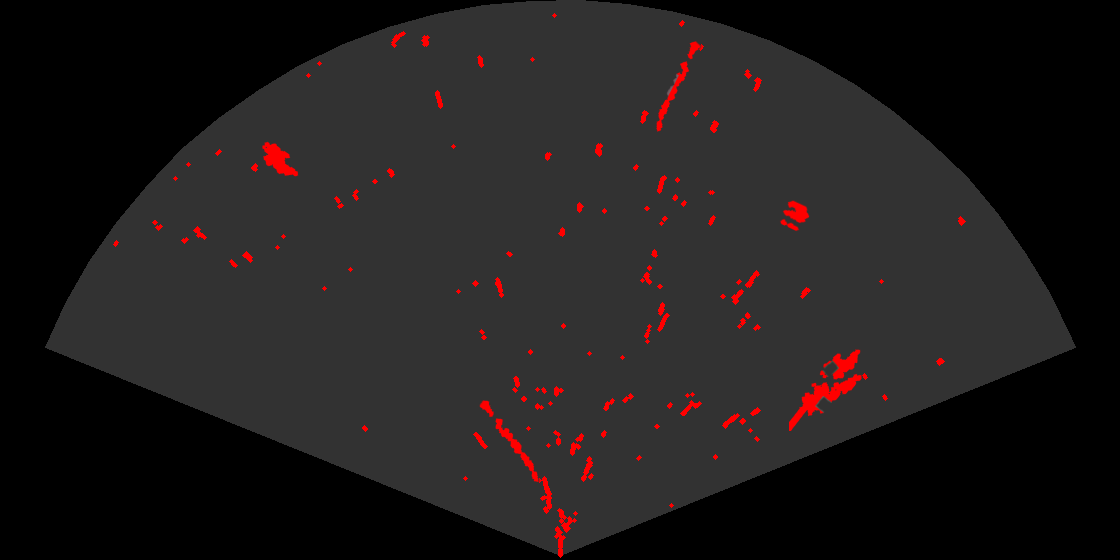AUV: (261, 140, 300, 178), (818, 348, 862, 381)
ball: (778, 199, 811, 233)
chain: (478, 399, 540, 484), (655, 40, 702, 133)
frogman: (789, 372, 863, 431)
